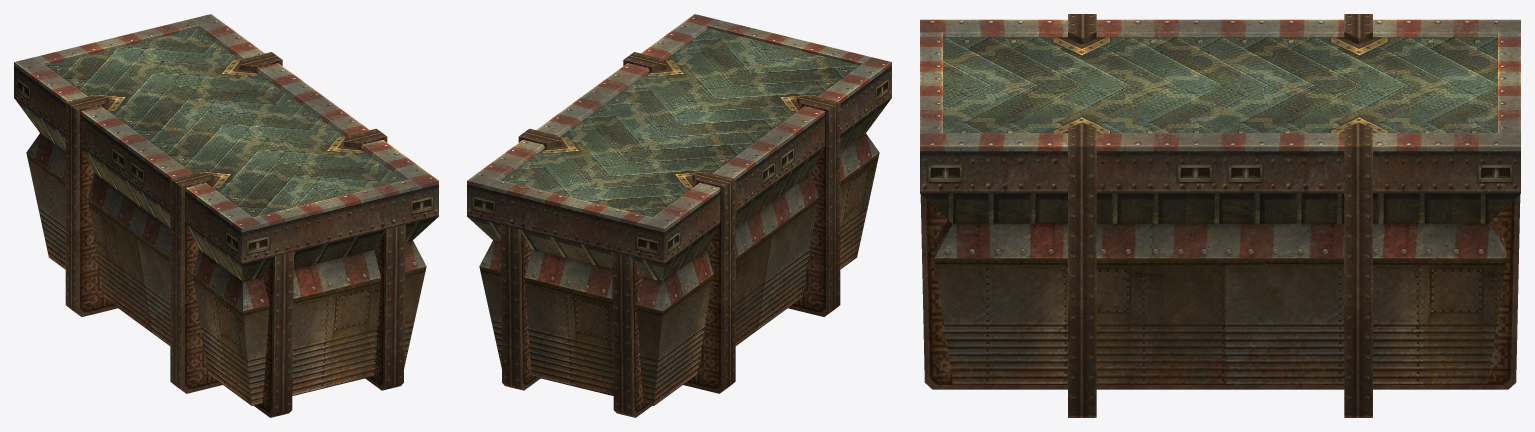
Rendered from Platform.gltf.
The picture shows the model from 3 angles, left to right: view 1: azimuth 30°, elevation 25°; view 2: azimuth 150°, elevation 25°; view 3: azimuth 270°, elevation 25°; orthographic projection. The views are drawn at different scales.
Visible parts, largest first — view 1: PlatformMesh; view 2: PlatformMesh; view 3: PlatformMesh.
Part boxes in pixels (left/top/right/bottom): PlatformMesh: left=14, top=14, right=438, bottom=417; PlatformMesh: left=467, top=14, right=891, bottom=417; PlatformMesh: left=920, top=14, right=1520, bottom=417.
Size of the model in its own units: 5.23 by 5.04 by 10.
Materials: 2 (2 with a texture image).
